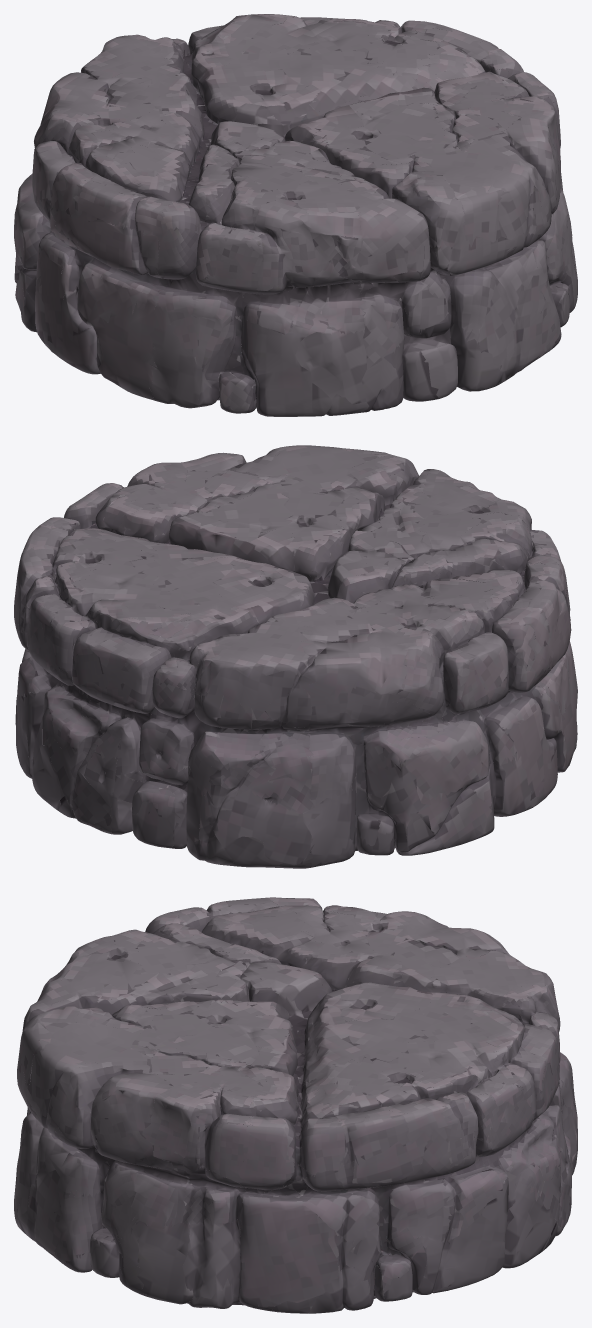
The model's file is stone_platform.glb.
3 renders of one model, top to bottom at view 1: azimuth 30°, elevation 25°; view 2: azimuth 150°, elevation 25°; view 3: azimuth 270°, elevation 25°, orthographic.
Visible parts, largest first — view 1: Mesh_0; view 2: Mesh_0; view 3: Mesh_0.
Part boxes in pixels (<box>): Mesh_0: <box>14,14,577,416</box>; Mesh_0: <box>14,445,577,868</box>; Mesh_0: <box>14,897,577,1313</box>.
Size of the model in its own units: 1.9 by 0.7362 by 1.9.
1 material, 1 textured.
